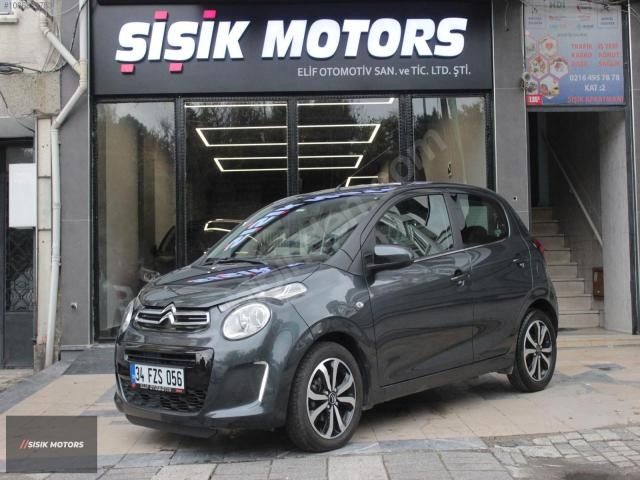plaka: (130, 364, 184, 392)
